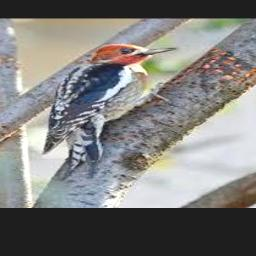Woodpecker: (43, 44, 179, 180)
